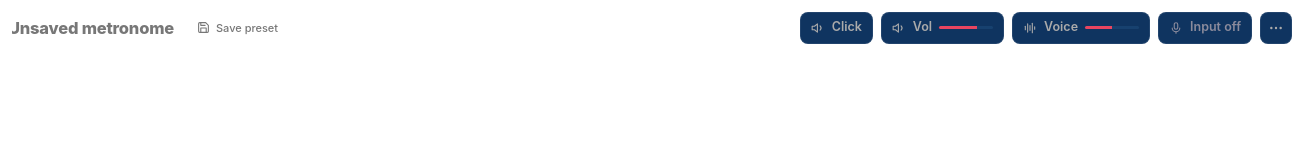
Scenario: MainHeader — the overflow › keeps share and help behind the … until it is opened
This screenshot has width=1304, height=164.
Expected: the menu item "Share" is not shown
Click the button named "More": (1276, 28) [1260, 12, 1292, 44]
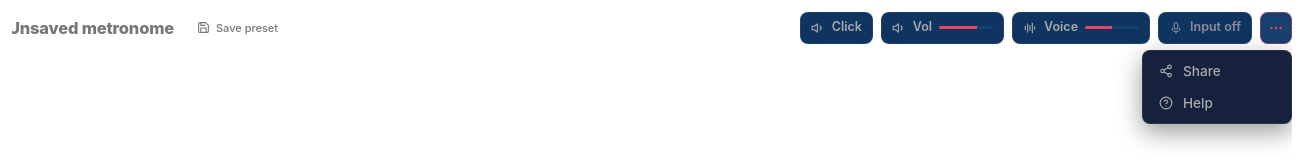
Expected: the menu item "Share" is shown, [1147, 54, 1287, 86]
Expected: the menu item "Help" is shown, [1147, 86, 1287, 118]
